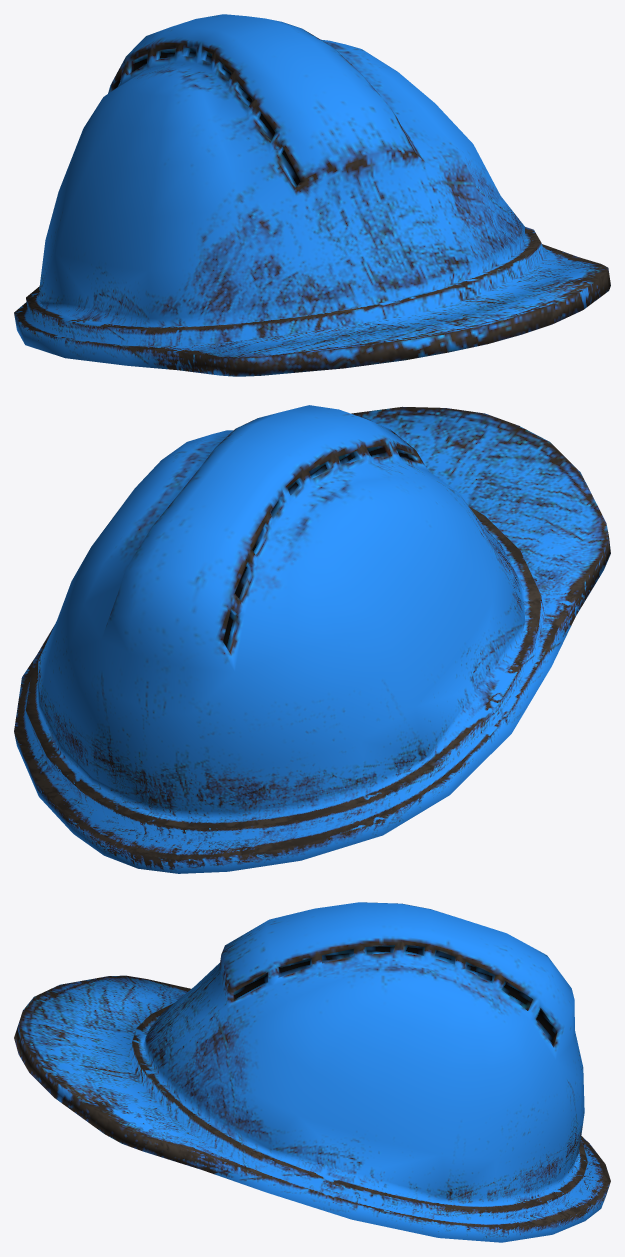
File: OSHA Gear Head.fbx
The picture shows the model from 3 angles, top to bottom: view 1: azimuth 30°, elevation 25°; view 2: azimuth 150°, elevation 25°; view 3: azimuth 270°, elevation 25°; orthographic projection. The views are drawn at different scales.
Visible parts, largest first — view 1: Helm; view 2: Helm; view 3: Helm.
Boxes of the visible parts, x1,y1,x2,y2 form: Helm: (14, 14, 610, 376); Helm: (14, 405, 610, 873); Helm: (14, 902, 610, 1242).
Size of the model in its own units: 0.2179 by 0.1551 by 0.2977.
